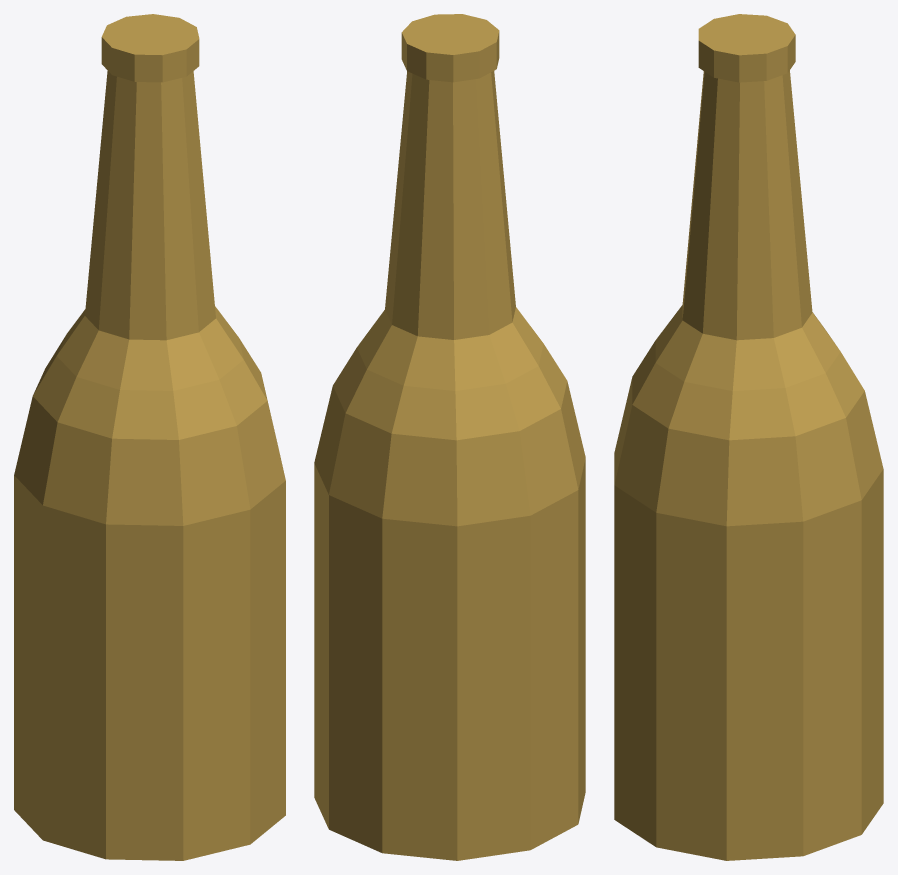
The model's file is tavern-bottle-yellow.glb.
3 renders of one model, left to right at view 1: azimuth 30°, elevation 25°; view 2: azimuth 150°, elevation 25°; view 3: azimuth 270°, elevation 25°, orthographic.
Visible parts, largest first — view 1: Object_2; view 2: Object_2; view 3: Object_2.
Boxes of the visible parts, x1,y1,x2,y2 form: Object_2: [14, 14, 285, 860]; Object_2: [314, 14, 585, 860]; Object_2: [614, 14, 883, 860].
Bounding box in the file's own units: 1.98 × 6.18 × 1.96.
